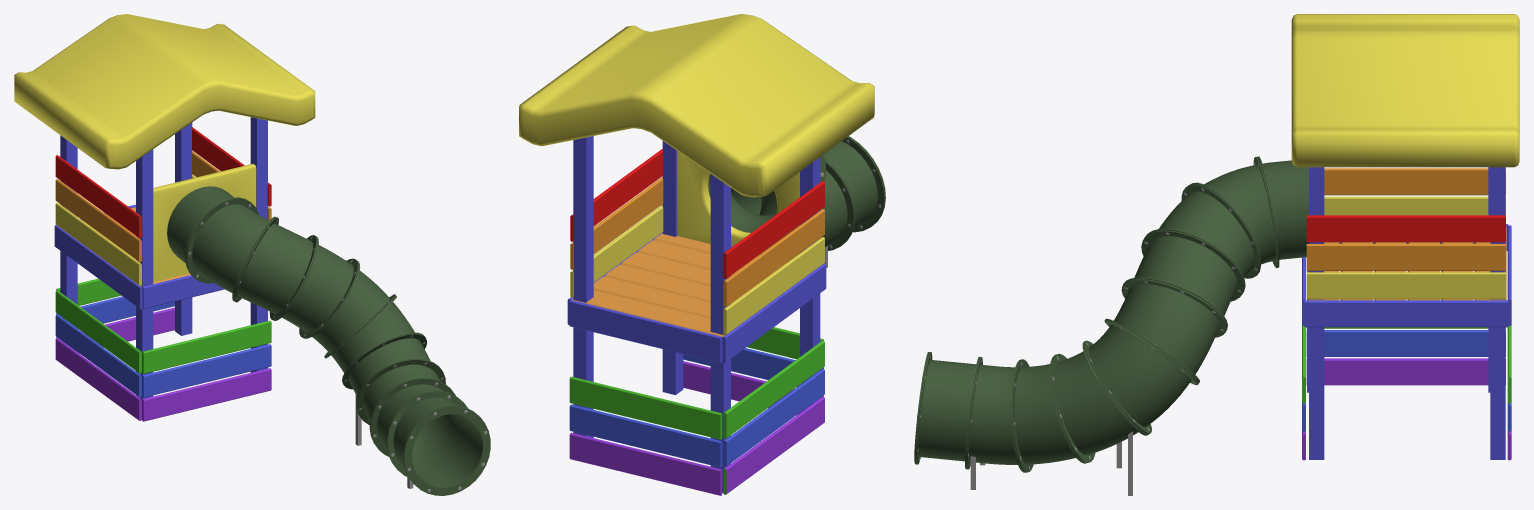
The model's file is slideTube.fbx.
The picture shows the model from 3 angles, left to right: view 1: azimuth 30°, elevation 25°; view 2: azimuth 150°, elevation 25°; view 3: azimuth 270°, elevation 25°; orthographic projection. The views are drawn at different scales.
Parts seen in each view (by area): view 1: Slide Tube; view 2: Slide Tube; view 3: Slide Tube.
Boxes of the visible parts, <box> form: Slide Tube: <box>14,14,490,495</box>; Slide Tube: <box>519,14,885,495</box>; Slide Tube: <box>914,14,1519,495</box>.
Bounding box in the file's own units: 287 × 366 × 514.
